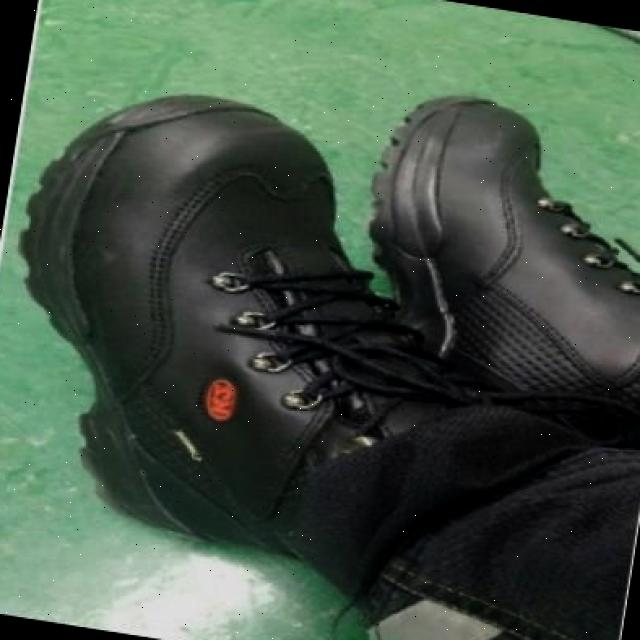Safety Boots: (22, 96, 640, 534)
